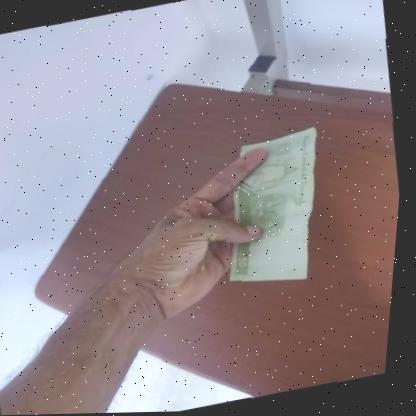fifty-back-vef: (208, 126, 344, 296)
